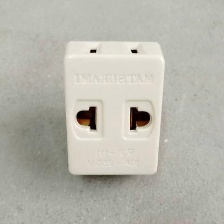three_eye_plug: (60, 34, 168, 183)
